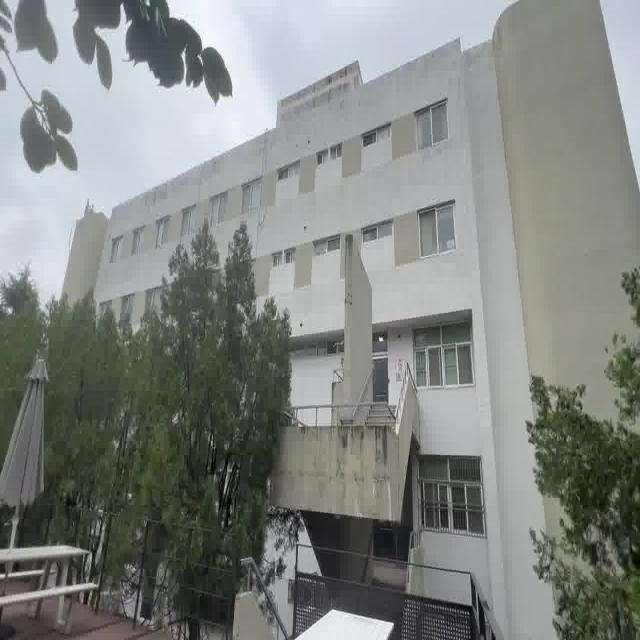building: (292, 71, 512, 516)
